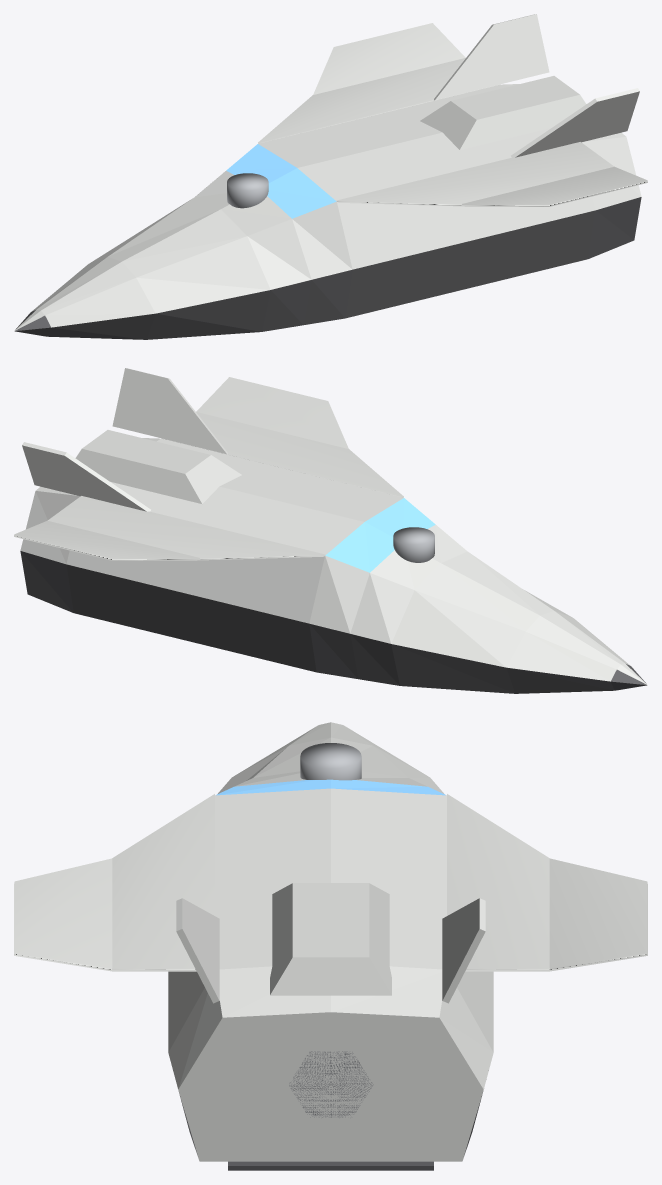
Rendered from b4s_glide.glb.
3 renders of one model, top to bottom at view 1: azimuth 30°, elevation 25°; view 2: azimuth 150°, elevation 25°; view 3: azimuth 270°, elevation 25°, orthographic. The views are drawn at different scales.
Parts seen in each view (by area): view 1: hull, belly_tps, wing_in_port, kit_pod, wing_in_stbd, wing_out_stbd, fin_stbd, fin_port, glazing, wing_out_port, dorsal_hatch; view 2: hull, belly_tps, wing_in_stbd, kit_pod, wing_in_port, wing_out_port, fin_port, fin_stbd, glazing, wing_out_stbd, dorsal_hatch; view 3: hull, kit_pod, wing_in_stbd, wing_in_port, wing_out_stbd, wing_out_port, fin_stbd, fin_port, torch_nozzle, dorsal_hatch, body_flap, glazing.
Boxes of the visible parts, bbox=[...] form: hull: bbox=[14, 84, 641, 330]; belly_tps: bbox=[14, 197, 641, 339]; wing_in_port: bbox=[336, 142, 613, 206]; kit_pod: bbox=[420, 76, 586, 149]; wing_in_stbd: bbox=[258, 58, 500, 143]; wing_out_stbd: bbox=[313, 23, 465, 94]; fin_stbd: bbox=[434, 14, 549, 100]; fin_port: bbox=[511, 88, 639, 157]; glazing: bbox=[226, 144, 336, 218]; wing_out_port: bbox=[461, 166, 647, 206]; dorsal_hatch: bbox=[227, 173, 268, 208]; hull: bbox=[20, 438, 647, 684]; belly_tps: bbox=[20, 551, 647, 693]; wing_in_stbd: bbox=[48, 496, 325, 560]; kit_pod: bbox=[75, 430, 241, 503]; wing_in_port: bbox=[161, 412, 403, 497]; wing_out_port: bbox=[196, 377, 348, 448]; fin_port: bbox=[112, 368, 227, 454]; fin_stbd: bbox=[22, 442, 150, 511]; glazing: bbox=[325, 498, 435, 572]; wing_out_stbd: bbox=[14, 520, 200, 560]; dorsal_hatch: bbox=[393, 527, 434, 562]; hull: bbox=[168, 722, 493, 1161]; kit_pod: bbox=[270, 883, 391, 995]; wing_in_stbd: bbox=[447, 794, 549, 971]; wing_in_port: bbox=[112, 794, 214, 971]; wing_out_stbd: bbox=[549, 858, 647, 971]; wing_out_port: bbox=[14, 858, 112, 971]; fin_stbd: bbox=[442, 898, 485, 1003]; fin_port: bbox=[176, 898, 219, 1003]; torch_nozzle: bbox=[289, 1051, 373, 1117]; dorsal_hatch: bbox=[300, 743, 361, 780]; body_flap: bbox=[228, 1161, 433, 1170]; glazing: bbox=[216, 779, 445, 795].
Size of the model in its own units: 12.8 by 3.48 by 8.3.
